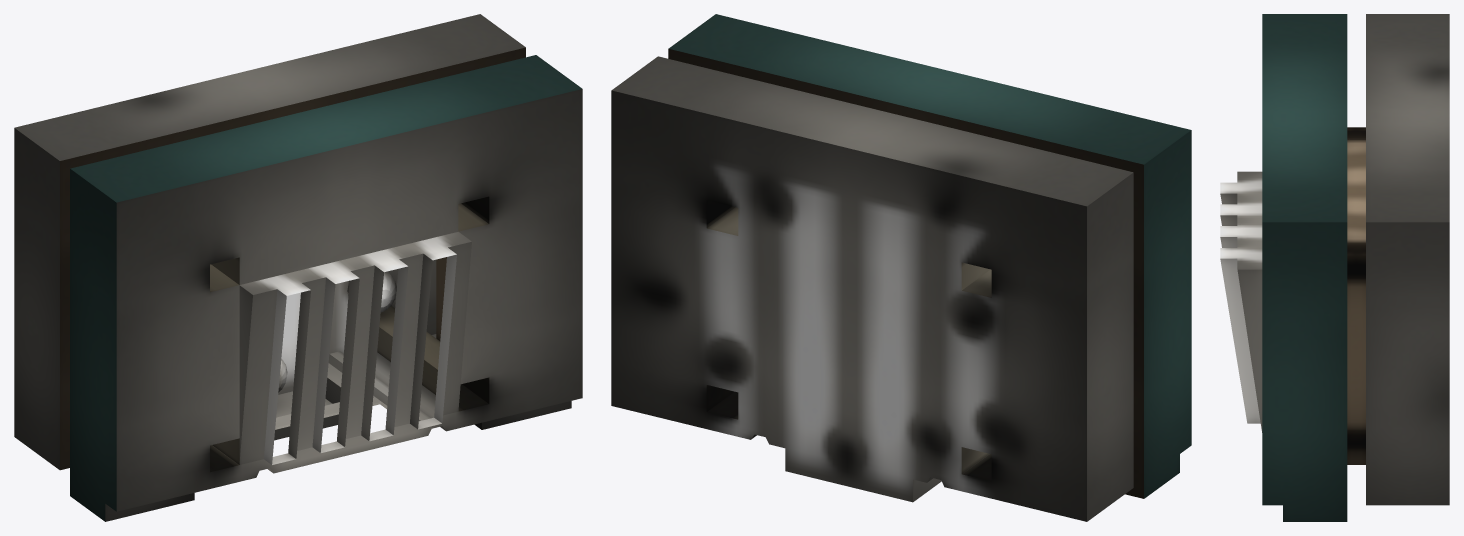
The model's file is ballsScene.obj.
3 views of the same model, side by side, from view 1: azimuth 30°, elevation 25°; view 2: azimuth 150°, elevation 25°; view 3: azimuth 270°, elevation 25° (orthographic). The views are drawn at different scales.
Parts seen in each view (by area): view 1: house_Cube.000; view 2: house_Cube.000; view 3: house_Cube.000.
Part boxes in pixels (x1,y1,x2,y2): house_Cube.000: [14, 14, 582, 521]; house_Cube.000: [611, 14, 1191, 521]; house_Cube.000: [1220, 14, 1449, 521].
Bounding box in the file's own units: 21.49 × 14.61 × 10.01.
Materials: 2 (2 with a texture image).
